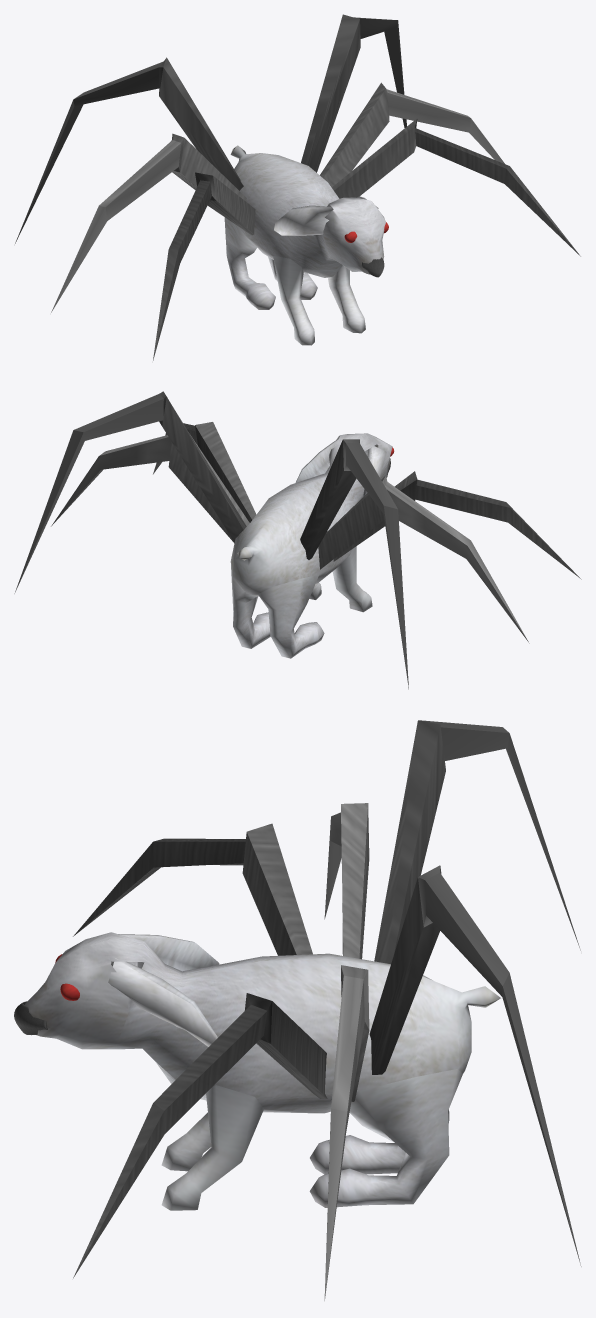
File: rabit.obj
3 renders of one model, top to bottom at view 1: azimuth 30°, elevation 25°; view 2: azimuth 150°, elevation 25°; view 3: azimuth 270°, elevation 25°, orthographic. The views are drawn at different scales.
Parts seen in each view (by area): view 1: SpiderHalf2, Box01, Oreja2; view 2: SpiderHalf2, Box01, Oreja1; view 3: Box01, SpiderHalf2, Oreja1, Oreja2.
Part boxes in pixels (<box>): SpiderHalf2: <box>15,14,580,360</box>; Box01: <box>224,145,385,345</box>; Oreja2: <box>274,205,333,235</box>; SpiderHalf2: <box>14,391,581,689</box>; Box01: <box>230,433,392,658</box>; Oreja1: <box>295,436,342,482</box>; Box01: <box>25,932,500,1210</box>; SpiderHalf2: <box>73,720,581,1300</box>; Oreja1: <box>108,958,217,1046</box>; Oreja2: <box>111,934,219,971</box>.
Size of the model in its own units: 19.5 by 9.35 by 12.22.
